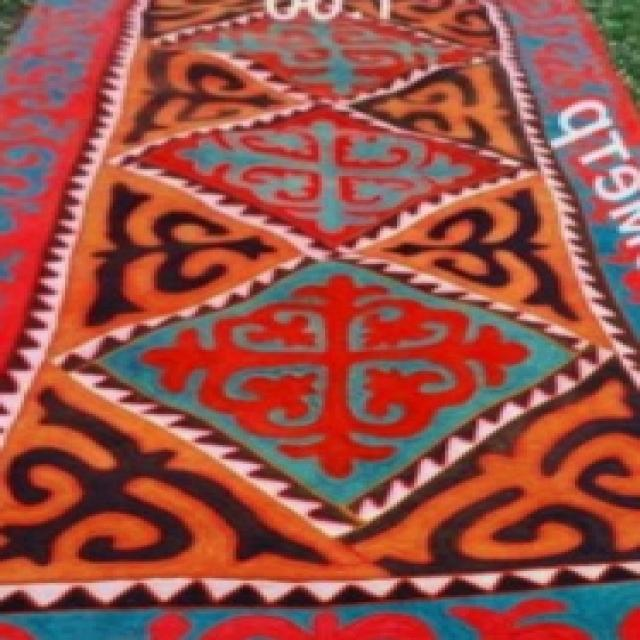Unity: (111, 267, 567, 496), (149, 112, 499, 239)
